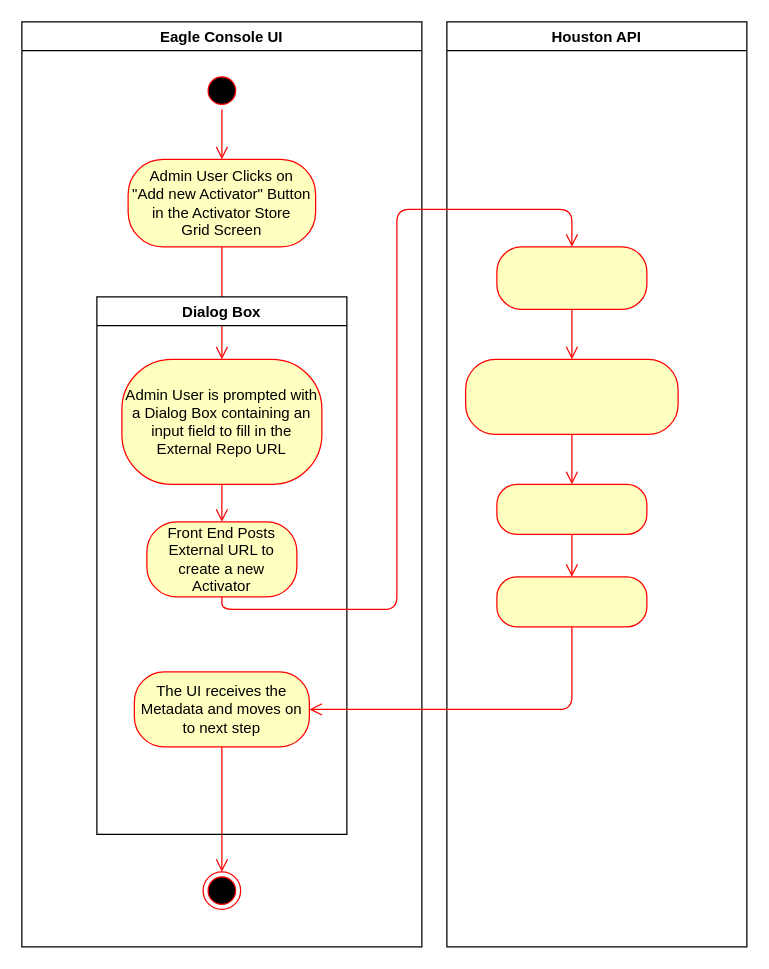
Image size: 769x969. Some labels were removed from this diagram. The centre of each missing label's shape, as x and y in pixels:
Reads and imports ".tb/activator_metadata.yml" file: pixel 571 396
Reads and stores latest version "git tag" number: pixel 571 277
Returns current activator as JSON: pixel 571 601
Set Activator status as "Initialized": pixel 571 508
